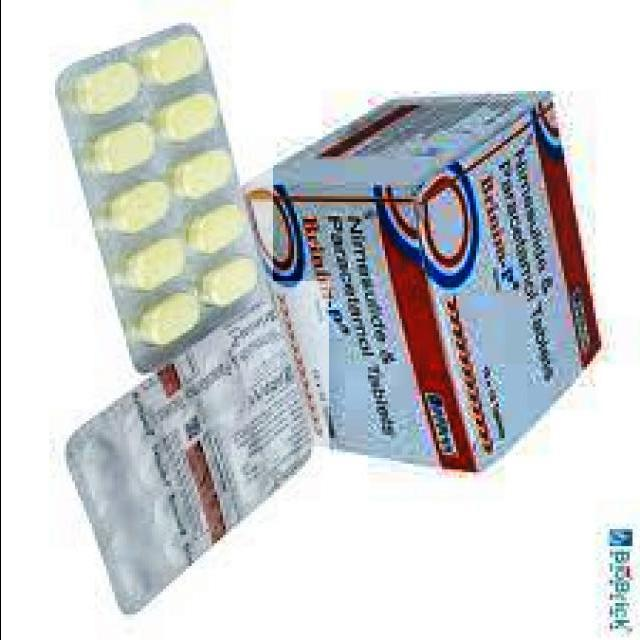authentic: (248, 71, 611, 482), (54, 281, 328, 619), (45, 16, 272, 364)
